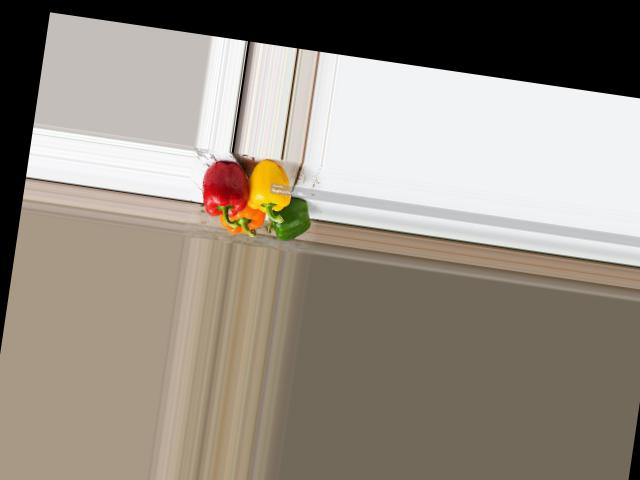bell_pepper: (217, 199, 268, 239)
